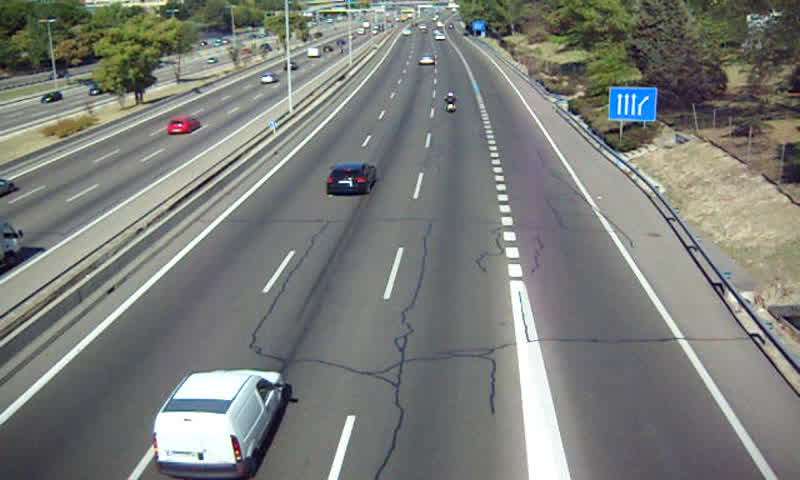car: (326, 163, 376, 196), (418, 55, 435, 68)
motorcycle: (443, 92, 460, 114)
van: (152, 369, 286, 478)
